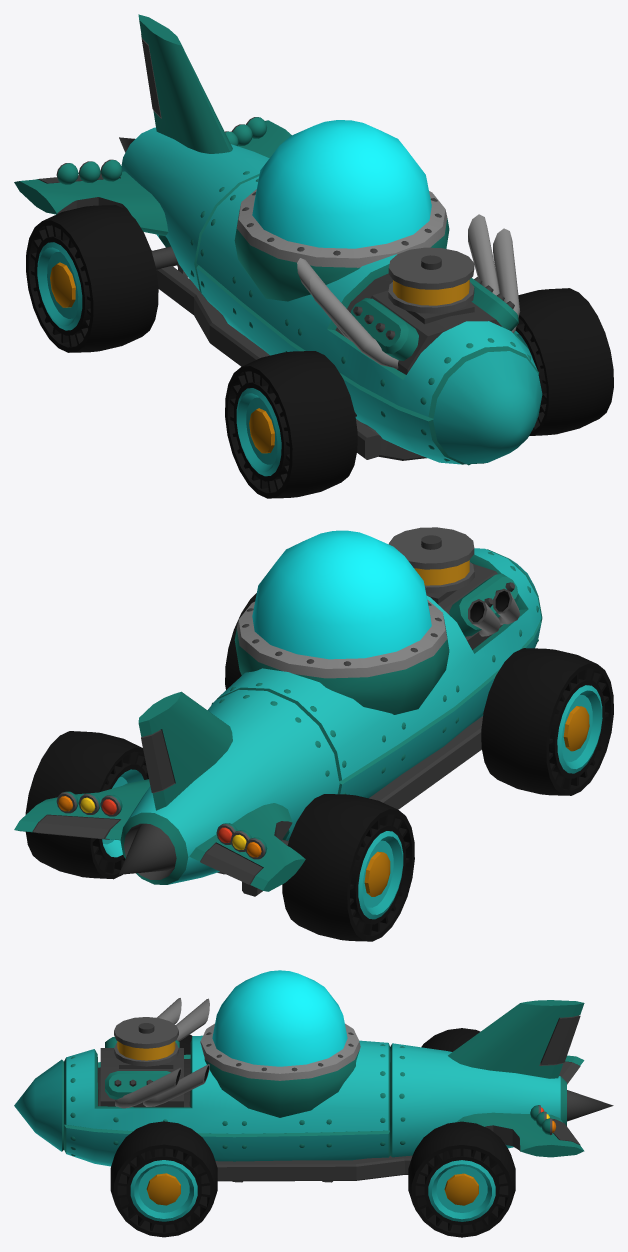
File: VEH23-A.fbx
3 renders of one model, top to bottom at view 1: azimuth 30°, elevation 25°; view 2: azimuth 150°, elevation 25°; view 3: azimuth 270°, elevation 25°, orthographic. The views are drawn at different scales.
Visible parts, largest first — view 1: VEH23_A, VEH23A_Wheel_BR, VEH23A_Wheel_FR, VEH23A_Wheel_FL; view 2: VEH23_A, VEH23A_Wheel_FR, VEH23A_Wheel_BR, VEH23A_Wheel_BL, VEH23A_Wheel_FL; view 3: VEH23_A, VEH23A_Wheel_FL, VEH23A_Wheel_BL, VEH23A_Wheel_BR.
Part boxes in pixels (box(x1,y1,x2,y2)): VEH23_A: box(14, 14, 542, 465); VEH23A_Wheel_BR: box(26, 205, 158, 352); VEH23A_Wheel_FR: box(225, 351, 357, 498); VEH23A_Wheel_FL: box(514, 288, 613, 435); VEH23_A: box(14, 527, 542, 896); VEH23A_Wheel_FR: box(481, 648, 613, 795); VEH23A_Wheel_BR: box(282, 794, 414, 941); VEH23A_Wheel_BL: box(25, 731, 148, 879); VEH23A_Wheel_FL: box(225, 593, 256, 689); VEH23_A: box(14, 970, 613, 1182); VEH23A_Wheel_FL: box(110, 1121, 217, 1237); VEH23A_Wheel_BL: box(408, 1121, 515, 1237); VEH23A_Wheel_BR: box(421, 1028, 480, 1051).
Size of the model in its own units: 241 by 188 by 499.
1 material, 1 textured.
